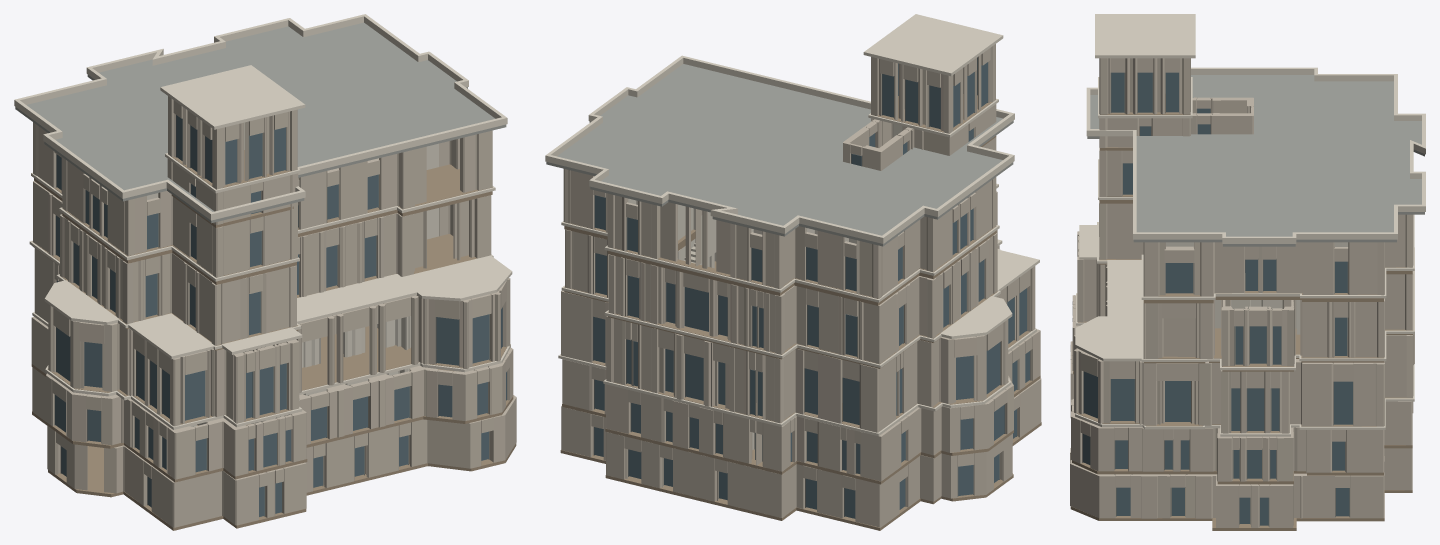
The picture shows the model from 3 angles, left to right: view 1: azimuth 30°, elevation 25°; view 2: azimuth 150°, elevation 25°; view 3: azimuth 270°, elevation 25°; orthographic projection. The views are drawn at different scales.
Parts seen in each view (by area): view 1: villa-maraini-main-roof, villa-maraini-main-parapet, villa-maraini-p4-terrace-4, villa-maraini-tower-roof, villa-maraini-p1-wall-003-outer, villa-maraini-p5-slab, villa-maraini-p4-wall-012-outer, villa-maraini-p1-wall-001-outer-02, villa-maraini-p3-slab, villa-maraini-p4-wall-011-outer, villa-maraini-p1-slab, villa-maraini-p5-wall-013-outer (+67 smaller); view 2: villa-maraini-main-roof, villa-maraini-main-parapet, villa-maraini-tower-roof, villa-maraini-p1-wall-004-outer, villa-maraini-p3-wall-008-outer, villa-maraini-p3-wall-004-outer, villa-maraini-p5-slab, villa-maraini-p4-wall-006-outer, villa-maraini-p2-wall-007-outer, villa-maraini-p3-wall-018-outer, villa-maraini-p4-wall-016-outer, villa-maraini-p5-wall-002-outer (+64 smaller); view 3: villa-maraini-main-roof, villa-maraini-main-parapet, villa-maraini-p4-terrace-4, villa-maraini-tower-roof, villa-maraini-p4-wall-004-outer, villa-maraini-p3-wall-005-outer, villa-maraini-p1-wall-001-outer-01, villa-maraini-p5-wall-009-outer, villa-maraini-p2-wall-004-outer, villa-maraini-p1-wall-006-outer, villa-maraini-p3-wall-013-outer, villa-maraini-p5-wall-006-outer (+64 smaller).
Part boxes in pixels (left/top/right/bottom): villa-maraini-main-roof: left=15, top=22, right=506, bottom=223; villa-maraini-main-parapet: left=14, top=14, right=507, bottom=220; villa-maraini-p4-terrace-4: left=297, top=255, right=512, bottom=323; villa-maraini-tower-roof: left=160, top=65, right=305, bottom=129; villa-maraini-p1-wall-003-outer: left=151, top=466, right=258, bottom=527; villa-maraini-p5-slab: left=34, top=164, right=492, bottom=284; villa-maraini-p4-wall-012-outer: left=195, top=270, right=248, bottom=345; villa-maraini-p1-wall-001-outer-02: left=409, top=419, right=481, bottom=468; villa-maraini-p3-slab: left=48, top=326, right=507, bottom=424; villa-maraini-p4-wall-011-outer: left=376, top=212, right=423, bottom=278; villa-maraini-p1-slab: left=32, top=411, right=516, bottom=530; villa-maraini-p5-wall-013-outer: left=196, top=214, right=249, bottom=277; villa-maraini-main-roof: left=546, top=64, right=1013, bottom=246; villa-maraini-main-parapet: left=545, top=55, right=1014, bottom=243; villa-maraini-tower-roof: left=863, top=14, right=1003, bottom=76; villa-maraini-p1-wall-004-outer: left=727, top=461, right=804, bottom=517; villa-maraini-p3-wall-008-outer: left=902, top=337, right=955, bottom=413; villa-maraini-p3-wall-004-outer: left=762, top=348, right=804, bottom=423; villa-maraini-p5-slab: left=564, top=222, right=996, bottom=305; villa-maraini-p4-wall-006-outer: left=763, top=285, right=806, bottom=354; villa-maraini-p2-wall-007-outer: left=906, top=406, right=960, bottom=460; villa-maraini-p3-wall-018-outer: left=859, top=357, right=896, bottom=432; villa-maraini-p4-wall-016-outer: left=858, top=292, right=898, bottom=363; villa-maraini-p5-wall-002-outer: left=903, top=210, right=952, bottom=278; villa-maraini-main-roof: left=1087, top=75, right=1424, bottom=246; villa-maraini-main-parapet: left=1086, top=67, right=1425, bottom=243; villa-maraini-p4-terrace-4: left=1075, top=260, right=1143, bottom=361; villa-maraini-tower-roof: left=1095, top=14, right=1195, bottom=58; villa-maraini-p4-wall-004-outer: left=1143, top=300, right=1214, bottom=358; villa-maraini-p3-wall-005-outer: left=1280, top=359, right=1333, bottom=433; villa-maraini-p1-wall-001-outer-01: left=1269, top=473, right=1335, bottom=527; villa-maraini-p5-wall-009-outer: left=1276, top=247, right=1334, bottom=294; villa-maraini-p2-wall-004-outer: left=1276, top=427, right=1331, bottom=481; villa-maraini-p1-wall-006-outer: left=1185, top=474, right=1239, bottom=527; villa-maraini-p3-wall-013-outer: left=1190, top=361, right=1231, bottom=433; villa-maraini-p5-wall-006-outer: left=1194, top=247, right=1244, bottom=296.
Size of the model in its own units: 33.66 by 31.51 by 27.57.
